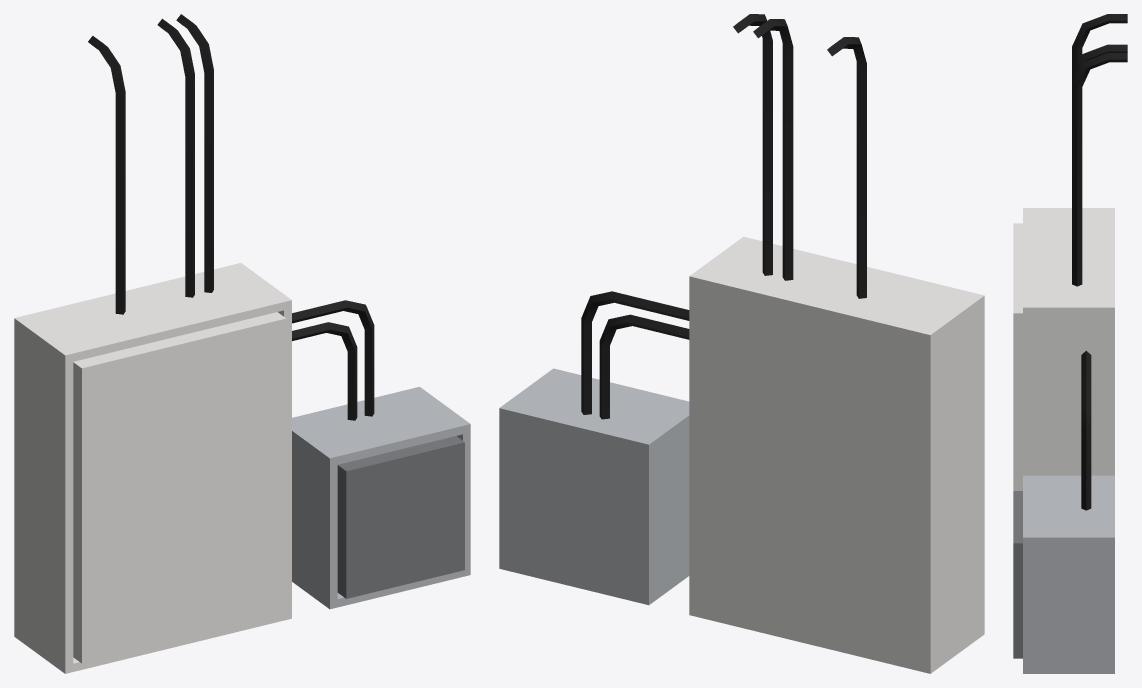
The model's file is SM_fusebox_03.fbx.
3 renders of one model, left to right at view 1: azimuth 30°, elevation 25°; view 2: azimuth 150°, elevation 25°; view 3: azimuth 270°, elevation 25°, orthographic. The views are drawn at different scales.
Parts seen in each view (by area): view 1: Line022; view 2: Line022; view 3: Line022.
Part boxes in pixels (bbox=[...]): Line022: bbox=[14, 14, 470, 673]; Line022: bbox=[499, 14, 984, 673]; Line022: bbox=[1013, 14, 1127, 673].
Bounding box in the file's own units: 30.78 × 8.34 × 41.71.
